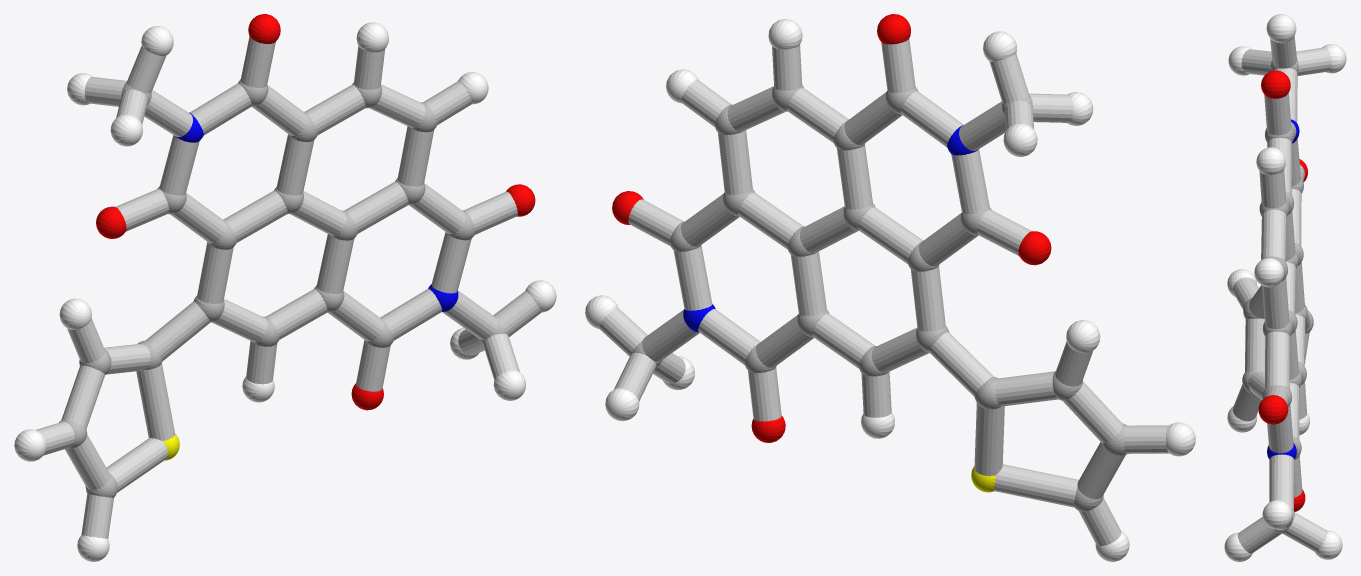
File: Dimethyl_Naphthalene_Dicarboximide_Phi_25_Theta_0_Thiophene.glb
3 renders of one model, left to right at view 1: azimuth 30°, elevation 25°; view 2: azimuth 150°, elevation 25°; view 3: azimuth 270°, elevation 25°, orthographic. The views are drawn at different scales.
Visible parts, largest first — view 1: grp14119, grp7241, grp1, grp12309, grp11585; view 2: grp14119, grp7241, grp1, grp12309, grp11585; view 3: grp14119, grp7241, grp1, grp12309, grp11585.
Part boxes in pixels (x1,y1,x2,y2): grp14119: (35, 36, 541, 538); grp7241: (14, 22, 556, 561); grp1: (59, 79, 507, 497); grp12309: (96, 14, 535, 410); grp11585: (175, 112, 458, 311); grp14119: (599, 39, 1168, 545); grp7241: (585, 19, 1195, 561); grp1: (631, 85, 1126, 511); grp12309: (612, 14, 1051, 442); grp11585: (683, 125, 978, 332); grp14119: (1232, 36, 1331, 553); grp7241: (1224, 14, 1346, 561); grp1: (1242, 58, 1313, 533); grp12309: (1258, 70, 1307, 511); grp11585: (1267, 119, 1299, 459).
Size of the model in its own units: 11.88 by 10.11 by 2.46.
